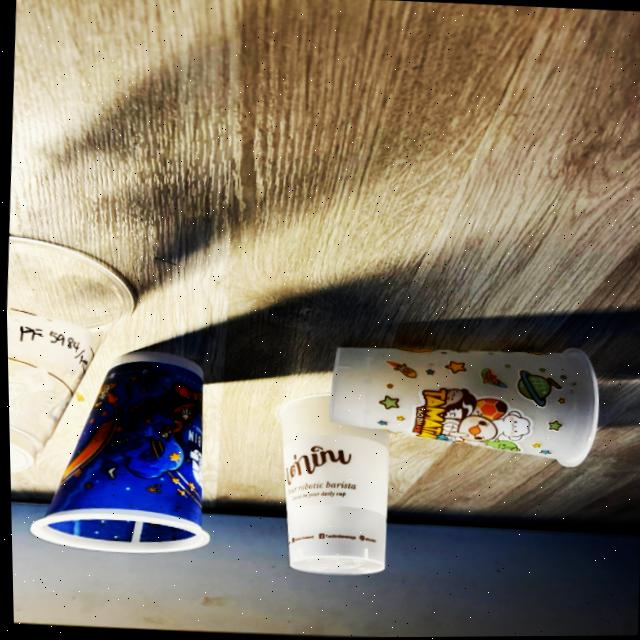Plastic Cup: (29, 351, 206, 553), (329, 348, 597, 467), (6, 236, 134, 473), (275, 395, 386, 575)
